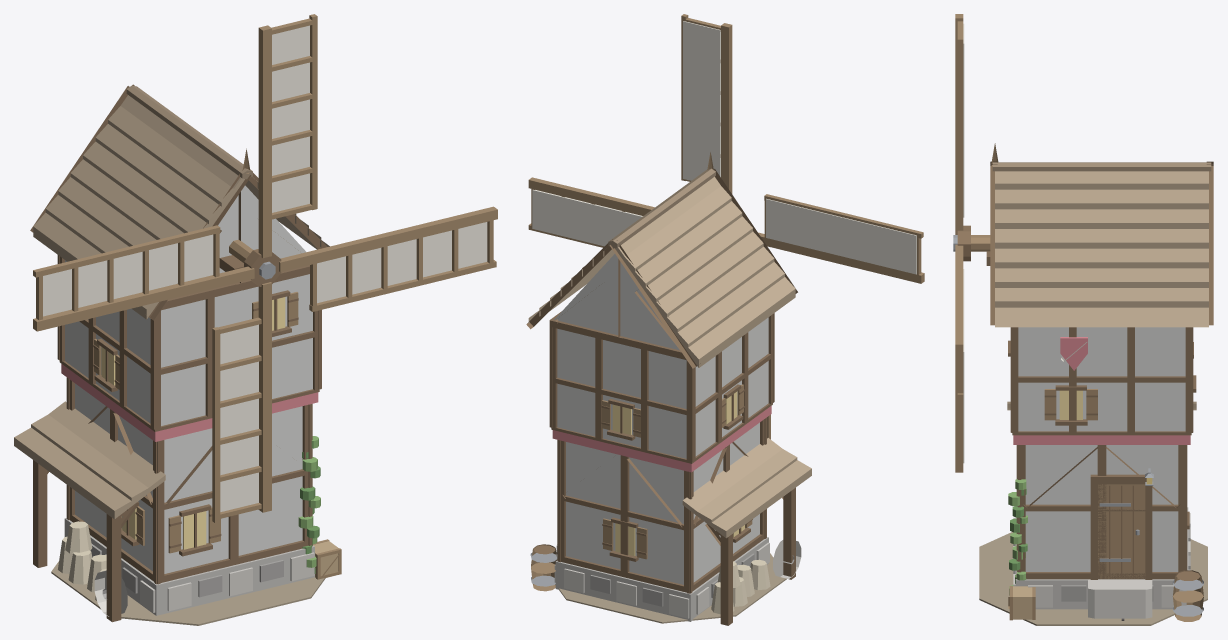
Rendered from mill.glb.
3 renders of one model, left to right at view 1: azimuth 30°, elevation 25°; view 2: azimuth 150°, elevation 25°; view 3: azimuth 270°, elevation 25°, orthographic. The views are drawn at different scales.
Visible parts, largest first — view 1: Upper, Walls, Sails.Canvas#3, Sails.Canvas#4, Sails.Canvas, Sails.Canvas#2, Ground, Base, Shed.Roof, Roof#14, Roof#15, Sails.Spar#2 (+35 smaller); view 2: Upper, Walls, Sails.Canvas#3, Sails.Canvas#2, Gable, Sails.Canvas, Roof#9, Base, Shed.Roof, Roof#10, Roof#12, Roof#13 (+33 smaller); view 3: Upper, Walls, Roof, Ground, Roof#4, Roof#7, Roof#2, Roof#3, Roof#5, Roof#6, Door, Roof#8 (+35 smaller).
Boxes of the visible parts, left/top/right/bottom form: Upper: left=65, top=260, right=312, bottom=425; Walls: left=75, top=383, right=302, bottom=573; Sails.Canvas#3: left=43, top=234, right=213, bottom=316; Sails.Canvas#4: left=220, top=324, right=258, bottom=511; Sails.Canvas: left=317, top=222, right=487, bottom=303; Sails.Canvas#2: left=272, top=25, right=309, bottom=212; Ground: left=51, top=561, right=325, bottom=625; Base: left=64, top=518, right=314, bottom=615; Shed.Roof: left=14, top=427, right=131, bottom=519; Roof#14: left=95, top=124, right=221, bottom=226; Roof#15: left=108, top=106, right=233, bottom=212; Sails.Spar#2: left=258, top=25, right=271, bottom=258; Upper: left=557, top=317, right=768, bottom=458; Walls: left=566, top=422, right=759, bottom=584; Sails.Canvas#3: left=766, top=198, right=916, bottom=274; Sails.Canvas#2: left=683, top=21, right=720, bottom=180; Gable: left=554, top=254, right=679, bottom=350; Sails.Canvas: left=532, top=189, right=642, bottom=246; Roof#9: left=688, top=277, right=795, bottom=367; Base: left=555, top=537, right=768, bottom=621; Shed.Roof: left=711, top=460, right=811, bottom=538; Roof#10: left=677, top=261, right=784, bottom=352; Roof#12: left=656, top=231, right=763, bottom=322; Roof#13: left=645, top=216, right=752, bottom=306; Upper: left=1018, top=327, right=1185, bottom=431; Walls: left=1025, top=445, right=1178, bottom=571; Roof: left=995, top=301, right=1208, bottom=327; Ground: left=979, top=532, right=1207, bottom=625; Roof#4: left=995, top=242, right=1208, bottom=262; Roof#7: left=995, top=183, right=1208, bottom=203; Roof#2: left=995, top=282, right=1208, bottom=301; Roof#3: left=995, top=262, right=1208, bottom=281; Roof#5: left=995, top=223, right=1208, bottom=242; Roof#6: left=995, top=203, right=1208, bottom=222; Door: left=1098, top=484, right=1145, bottom=579; Roof#8: left=995, top=171, right=1208, bottom=183.
Bounding box in the file's own units: 9 × 11.05 × 4.68.
